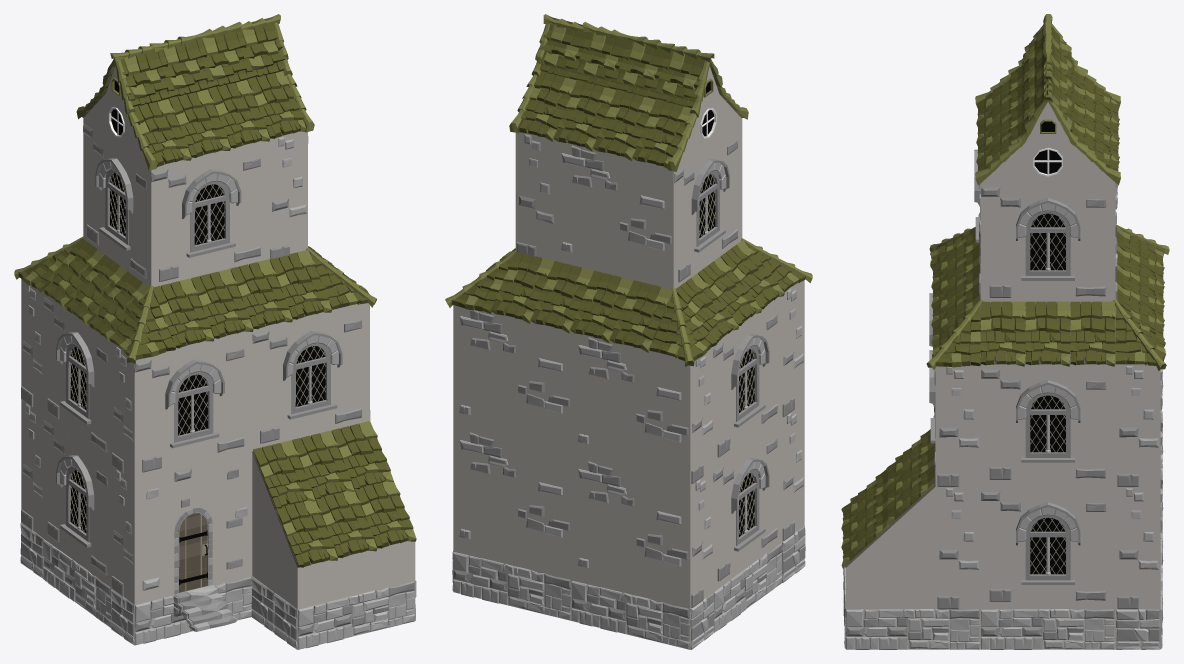
File: HOUSE_2.fbx
3 views of the same model, side by side, from view 1: azimuth 30°, elevation 25°; view 2: azimuth 150°, elevation 25°; view 3: azimuth 270°, elevation 25° (orthographic).
Parts seen in each view (by area): view 1: DOOR_03_2, WINDOW_03_20, WINDOW_03_21, WINDOW_03_22, WINDOW_03_25, WINDOW_03_23, WINDOW_03_24, FOUNDATION_03_3, WALL_06_11, FOUNDATION_03_2, FOUNDATION_03_8, WALL_06_2 (+39 smaller); view 2: WALL_01_2, WALL_01_3, WALL_01_5, WALL_01_4, WALL_01_6, WINDOW_03_25, WINDOW_03_23, WINDOW_03_24, FOUNDATION_03_7, FOUNDATION_03_6, WALL_06_12, WALL_06_3 (+26 smaller); view 3: WINDOW_03_26, WINDOW_03_27, WINDOW_03_28, FOUNDATION_03_5, WALL_06_9, FOUNDATION_03_4, WALL_06_7, WALL_06_8, WALL_06_10, ROOF_BASE_16, ROOF_BASE_17, ROOF_BASE_15 (+37 smaller).
Boxes of the visible parts, <box> form: DOOR_03_2: <box>134,452,252,603</box>; WINDOW_03_20: <box>134,331,252,480</box>; WINDOW_03_21: <box>252,303,369,451</box>; WINDOW_03_22: <box>151,141,268,286</box>; WINDOW_03_25: <box>43,415,111,587</box>; WINDOW_03_23: <box>83,118,151,286</box>; WINDOW_03_24: <box>43,294,111,463</box>; FOUNDATION_03_3: <box>297,580,415,649</box>; WALL_06_11: <box>269,131,307,259</box>; FOUNDATION_03_2: <box>134,576,252,645</box>; FOUNDATION_03_8: <box>43,538,111,627</box>; WALL_06_2: <box>111,466,135,604</box>; WALL_01_2: <box>572,456,690,608</box>; WALL_01_3: <box>453,427,571,579</box>; WALL_01_5: <box>572,332,691,484</box>; WALL_01_4: <box>453,305,571,455</box>; WALL_01_6: <box>555,140,674,289</box>; WINDOW_03_25: <box>713,418,781,591</box>; WINDOW_03_23: <box>673,119,742,288</box>; WINDOW_03_24: <box>713,296,781,467</box>; FOUNDATION_03_7: <box>571,580,690,649</box>; FOUNDATION_03_6: <box>453,551,571,620</box>; WALL_06_12: <box>515,132,555,261</box>; WALL_06_3: <box>690,468,713,608</box>; WINDOW_03_26: <box>980,486,1115,608</box>; WINDOW_03_27: <box>980,364,1115,486</box>; WINDOW_03_28: <box>980,182,1115,302</box>; FOUNDATION_03_5: <box>980,608,1115,649</box>; WALL_06_9: <box>935,486,980,609</box>; FOUNDATION_03_4: <box>846,608,980,649</box>; WALL_06_7: <box>1115,364,1160,486</box>; WALL_06_8: <box>1115,486,1160,609</box>; WALL_06_10: <box>935,364,980,486</box>; ROOF_BASE_16: <box>1025,301,1070,366</box>; ROOF_BASE_17: <box>1070,301,1115,366</box>; ROOF_BASE_15: <box>980,301,1025,366</box>.
Bounding box in the file's own units: 641 × 1320 × 731.
